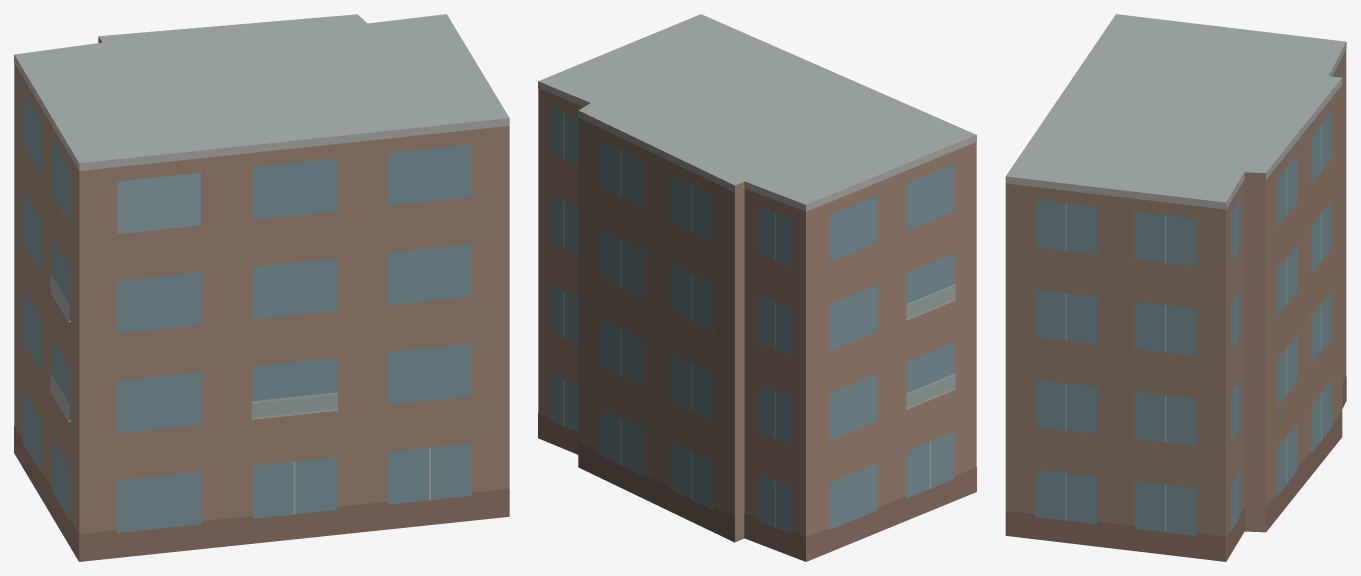
Rendered from survey-upis-32618380.glb.
The picture shows the model from 3 angles, left to right: view 1: azimuth 30°, elevation 25°; view 2: azimuth 150°, elevation 25°; view 3: azimuth 270°, elevation 25°; orthographic projection. The views are drawn at different scales.
Visible parts, largest first — view 1: survey-upis-32618380.tmp; view 2: survey-upis-32618380.tmp; view 3: survey-upis-32618380.tmp.
Part boxes in pixels (left/top/right/bottom): survey-upis-32618380.tmp: left=14, top=14, right=509, bottom=561; survey-upis-32618380.tmp: left=538, top=14, right=976, bottom=561; survey-upis-32618380.tmp: left=1005, top=14, right=1346, bottom=561.
Size of the model in its own units: 14.19 by 12.6 by 10.84.
